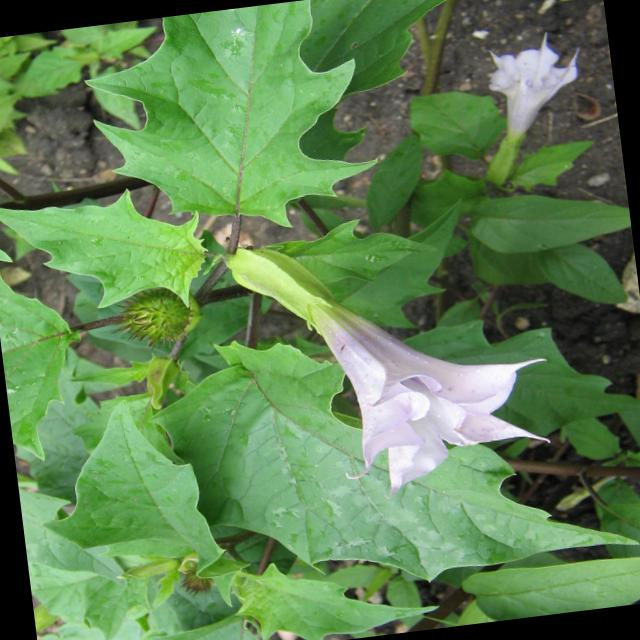Poisonous-Datura_Stramonium: (21, 416, 640, 640), (218, 205, 576, 521), (73, 0, 385, 254), (422, 8, 614, 206)
